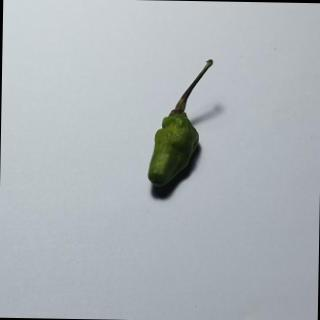Cabai Hijau: (145, 56, 217, 199)
